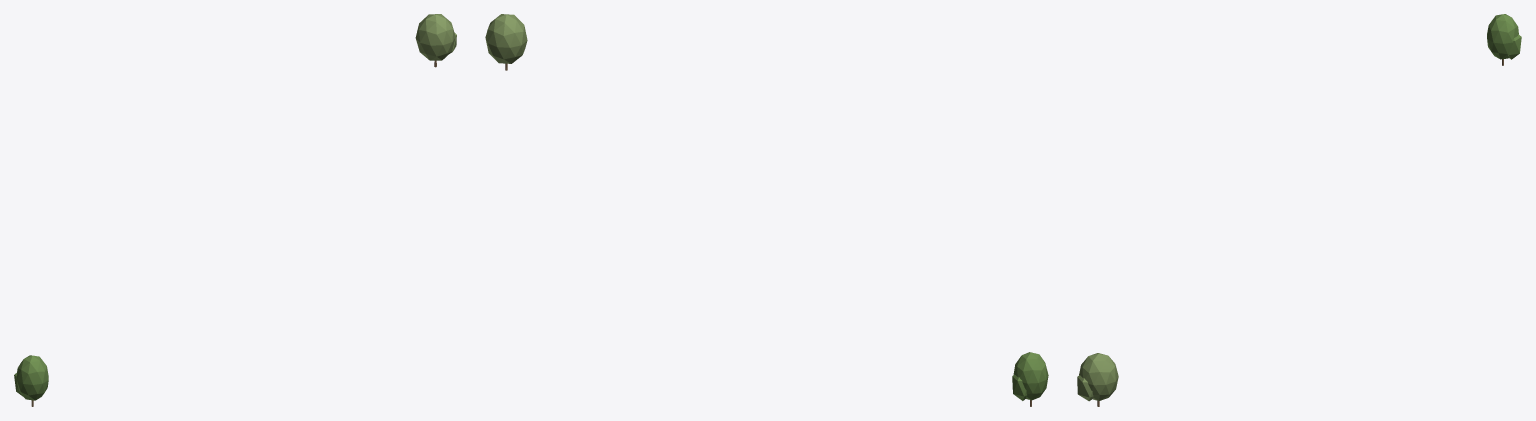
3 renders of one model, left to right at view 1: azimuth 90°, elevation 25°; view 2: azimuth 150°, elevation 25°; view 3: azimuth 270°, elevation 25°, orthographic. The views are drawn at different scales.
Parts seen in each view (by area): view 1: tree_4578, tree_4573; view 2: tree_4578, tree_4573; view 3: tree_4578, tree_4573.
Boxes of the visible parts, x1,y1,x2,y2 form: tree_4578: (415,14,456,67); tree_4573: (14,355,48,406); tree_4578: (485,14,527,70); tree_4573: (1012,352,1048,406); tree_4578: (1077,353,1118,406); tree_4573: (1487,14,1521,65).
Size of the model in its own units: 138 by 9.53 by 72.92.
